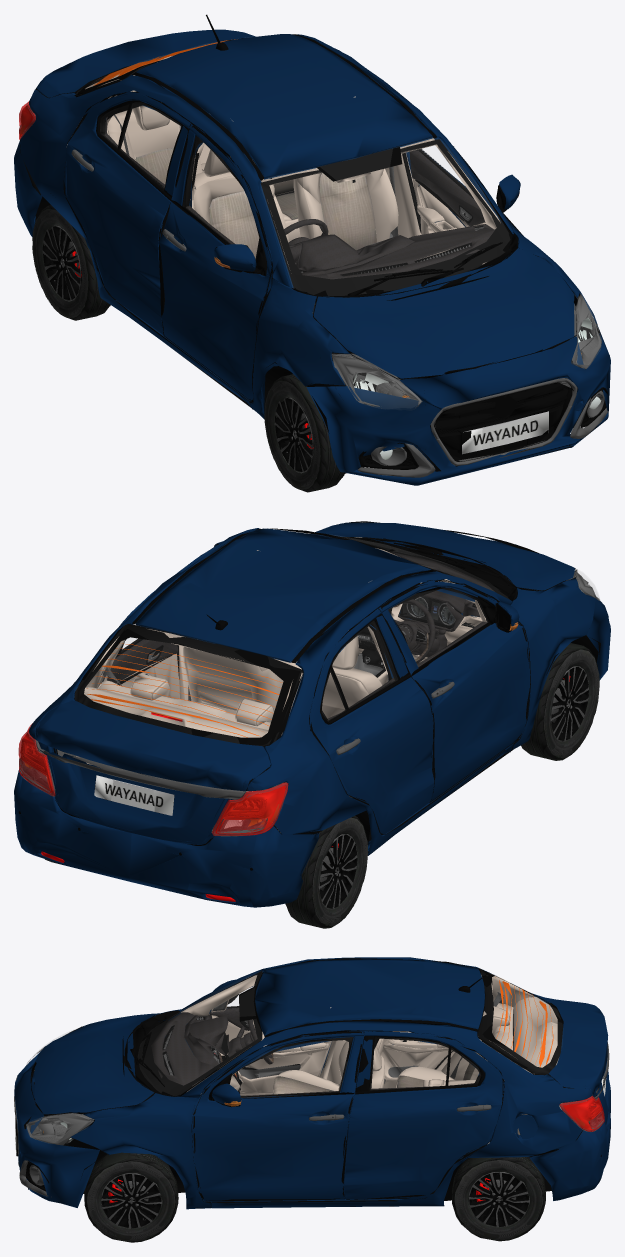
The model's file is player-sedan.glb.
The picture shows the model from 3 angles, top to bottom: view 1: azimuth 30°, elevation 25°; view 2: azimuth 150°, elevation 25°; view 3: azimuth 270°, elevation 25°; orthographic projection. The views are drawn at different scales.
Visible parts, largest first — view 1: mb04, door_rf, door_rr, grille, mb07, seats_pattern, dashboard, wheel_rf, wheel_rf.001, seats_cream, mb05, door_lf (+8 smaller); view 2: mb04, boot, door_rf, door_rr, seats_cream, windscreen_r, wheel_rf.001, wheel_rf, sidewall, tailight_glass, dashboard, mb05 (+9 smaller); view 3: mb04, door_lf, door_lr, wheel_rf.003, wheel_rf.002, sidewall, boot, dashboard, door_rf, mb07, seats_cream, windscreen_r (+12 smaller).
Part boxes in pixels (bbox=[...]): mb04: bbox=[14, 34, 610, 485]; door_rf: bbox=[158, 124, 273, 402]; door_rr: bbox=[64, 92, 190, 334]; grille: bbox=[358, 378, 607, 477]; mb07: bbox=[133, 14, 512, 296]; seats_pattern: bbox=[135, 147, 376, 258]; dashboard: bbox=[296, 222, 495, 313]; wheel_rf: bbox=[264, 374, 344, 492]; wheel_rf.001: bbox=[32, 204, 110, 320]; seats_cream: bbox=[107, 105, 398, 242]; mb05: bbox=[20, 38, 601, 473]; door_lf: bbox=[387, 83, 523, 235]; mb04: bbox=[14, 522, 610, 907]; boot: bbox=[35, 700, 270, 845]; door_rf: bbox=[379, 579, 530, 802]; door_rr: bbox=[310, 608, 434, 834]; seats_cream: bbox=[97, 646, 368, 787]; windscreen_r: bbox=[75, 624, 302, 746]; wheel_rf.001: bbox=[285, 816, 368, 928]; wheel_rf: bbox=[521, 643, 599, 760]; sidewall: bbox=[76, 533, 475, 832]; tailight_glass: bbox=[18, 723, 288, 835]; dashboard: bbox=[354, 551, 494, 675]; mb05: bbox=[19, 521, 600, 870]; mb04: bbox=[14, 957, 610, 1209]; door_lf: bbox=[192, 1030, 365, 1201]; door_lr: bbox=[344, 1031, 503, 1199]; wheel_rf.003: bbox=[84, 1152, 178, 1242]; wheel_rf.002: bbox=[452, 1157, 545, 1241]; sidewall: bbox=[181, 974, 586, 1144]; boot: bbox=[548, 999, 609, 1124]; dashboard: bbox=[151, 1012, 240, 1093]; door_rf: bbox=[209, 972, 331, 1094]; mb07: bbox=[137, 958, 489, 1096]; seats_cream: bbox=[272, 1003, 513, 1094]; windscreen_r: bbox=[477, 968, 562, 1074].
Bounding box in the file's own units: 1.85 × 1.61 × 3.99.
Materials: 25 (15 with a texture image).
